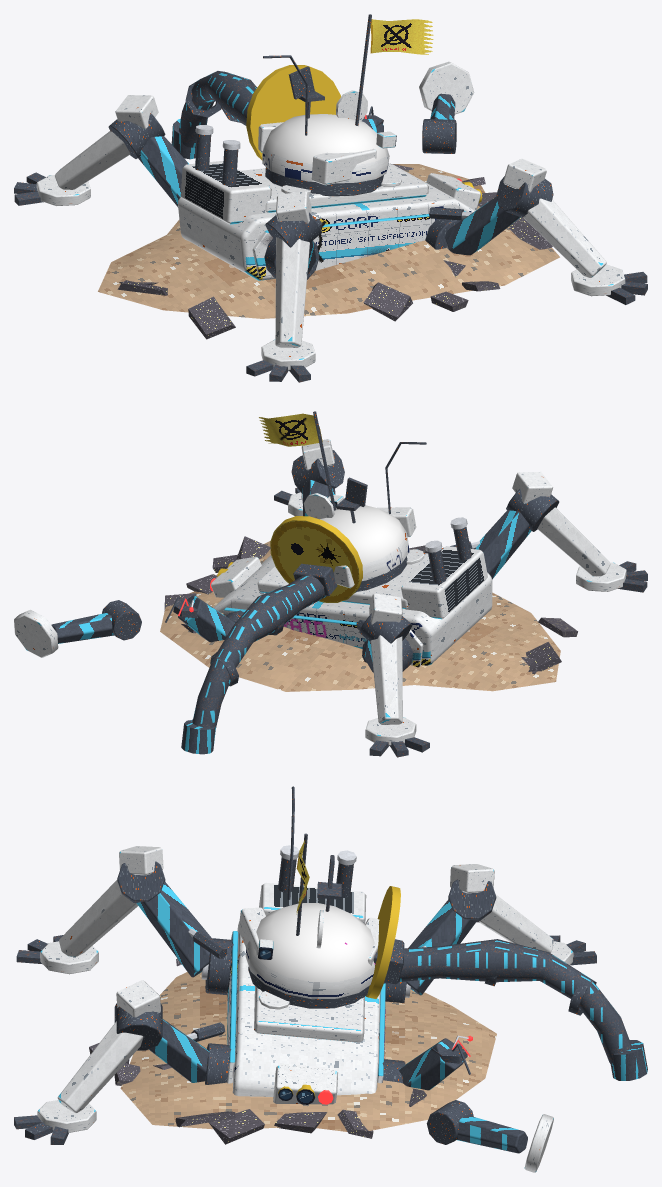
File: s_warmech.glb
3 renders of one model, top to bottom at view 1: azimuth 30°, elevation 25°; view 2: azimuth 150°, elevation 25°; view 3: azimuth 270°, elevation 25°, orthographic. The views are drawn at different scales.
Parts seen in each view (by area): view 1: s_warmech_mesh; view 2: s_warmech_mesh; view 3: s_warmech_mesh.
Boxes of the visible parts, x1=… form: s_warmech_mesh: x1=14, y1=14, x2=647, y2=382; s_warmech_mesh: x1=14, y1=411, x2=647, y2=757; s_warmech_mesh: x1=14, y1=786, x2=647, y2=1172.
Size of what is drawn, in the model's own units: 12.12 by 5.97 by 13.25.
Materials: 6 (5 with a texture image).
